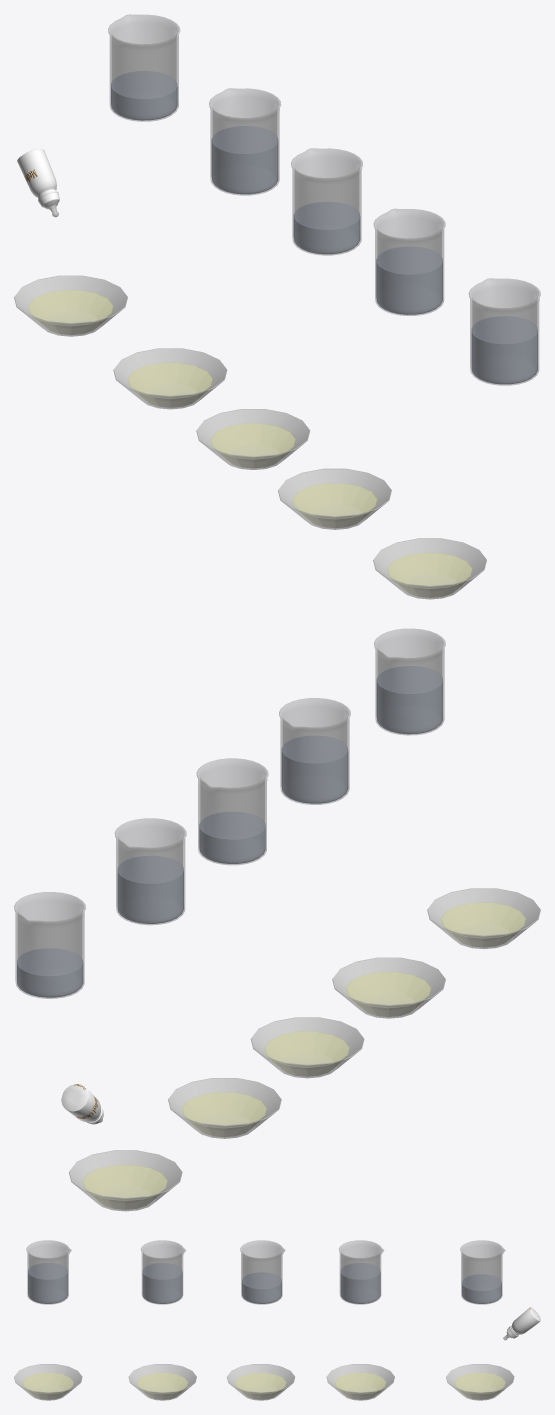
The model's file is r_mythi_change_animation.fbx.
3 views of the same model, one above another, from view 1: azimuth 30°, elevation 25°; view 2: azimuth 150°, elevation 25°; view 3: azimuth 270°, elevation 25° (orthographic). The views are drawn at different scales.
Visible parts, largest first — view 1: bowl (×4), liquid1 (×4), polySurface12, polySurface24, polySurface25, polySurface10, polySurface15, bowl4, polySurface13, polySurface26, polySurface22, polySurface11 (+3 smaller); view 2: bowl (×4), liquid1 (×4), polySurface25, polySurface12, polySurface15, polySurface24, polySurface10, bowl4, polySurface22, polySurface13, polySurface26, polySurface11 (+3 smaller); view 3: bowl (×4), liquid1 (×4), polySurface15, polySurface12, polySurface25, polySurface10, polySurface24, bowl4, polySurface13, polySurface22, polySurface26, polySurface11 (+3 smaller).
Part boxes in pixels (x1=…): bowl (×4): x1=14, y1=275, x2=391, y2=529; liquid1 (×4): x1=28, y1=289, x2=378, y2=527; polySurface12: x1=209, y1=88, x2=280, y2=195; polySurface24: x1=108, y1=14, x2=180, y2=121; polySurface25: x1=468, y1=278, x2=540, y2=385; polySurface10: x1=291, y1=148, x2=362, y2=255; polySurface15: x1=373, y1=208, x2=445, y2=315; bowl4: x1=373, y1=538, x2=486, y2=599; polySurface13: x1=211, y1=126, x2=278, y2=194; polySurface26: x1=471, y1=316, x2=537, y2=384; polySurface22: x1=376, y1=246, x2=442, y2=314; polySurface11: x1=293, y1=202, x2=360, y2=254; bowl (×4): x1=69, y1=957, x2=445, y2=1211; liquid1 (×4): x1=82, y1=971, x2=431, y2=1209; polySurface25: x1=374, y1=628, x2=445, y2=735; polySurface12: x1=114, y1=818, x2=186, y2=925; polySurface15: x1=279, y1=698, x2=350, y2=804; polySurface24: x1=14, y1=892, x2=85, y2=998; polySurface10: x1=196, y1=758, x2=268, y2=865; bowl4: x1=427, y1=888, x2=540, y2=949; polySurface22: x1=281, y1=736, x2=348, y2=803; polySurface13: x1=117, y1=856, x2=183, y2=923; polySurface26: x1=376, y1=666, x2=442, y2=734; polySurface11: x1=199, y1=812, x2=265, y2=863; bowl (×4): x1=128, y1=1364, x2=514, y2=1400; liquid1 (×4): x1=136, y1=1372, x2=506, y2=1399; polySurface15: x1=140, y1=1240, x2=185, y2=1304; polySurface12: x1=339, y1=1240, x2=384, y2=1304; polySurface25: x1=26, y1=1240, x2=71, y2=1304; polySurface10: x1=240, y1=1240, x2=285, y2=1304; polySurface24: x1=460, y1=1240, x2=505, y2=1304; bowl4: x1=14, y1=1364, x2=82, y2=1400; polySurface13: x1=340, y1=1263, x2=380, y2=1303; polySurface22: x1=142, y1=1263, x2=182, y2=1303; polySurface26: x1=28, y1=1263, x2=67, y2=1303; polySurface11: x1=242, y1=1272, x2=281, y2=1303.
Size of the model in its own units: 50.37 by 85.7 by 247.
Materials: 6 (1 with a texture image).
